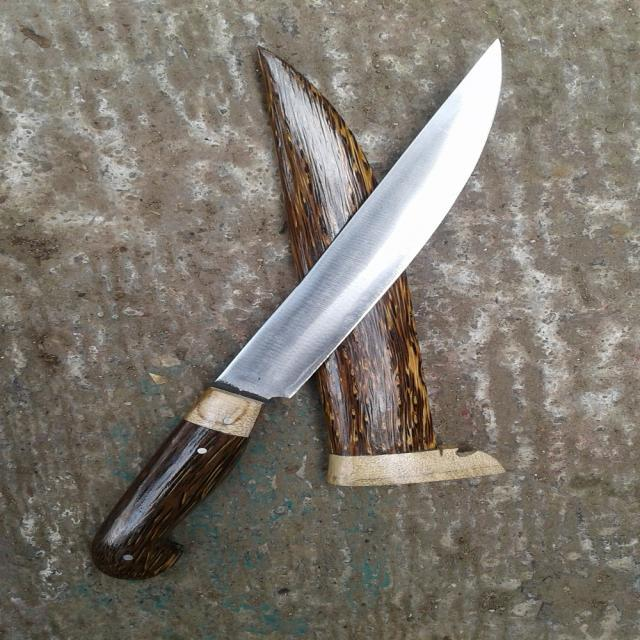Pisau: (63, 38, 574, 592)
